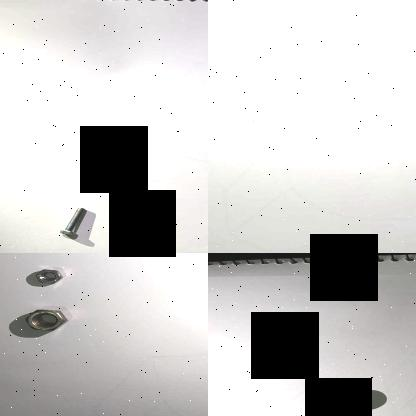Bolts: (56, 204, 90, 238)
NUTS: (22, 306, 70, 332), (324, 390, 364, 412), (32, 266, 66, 284)
